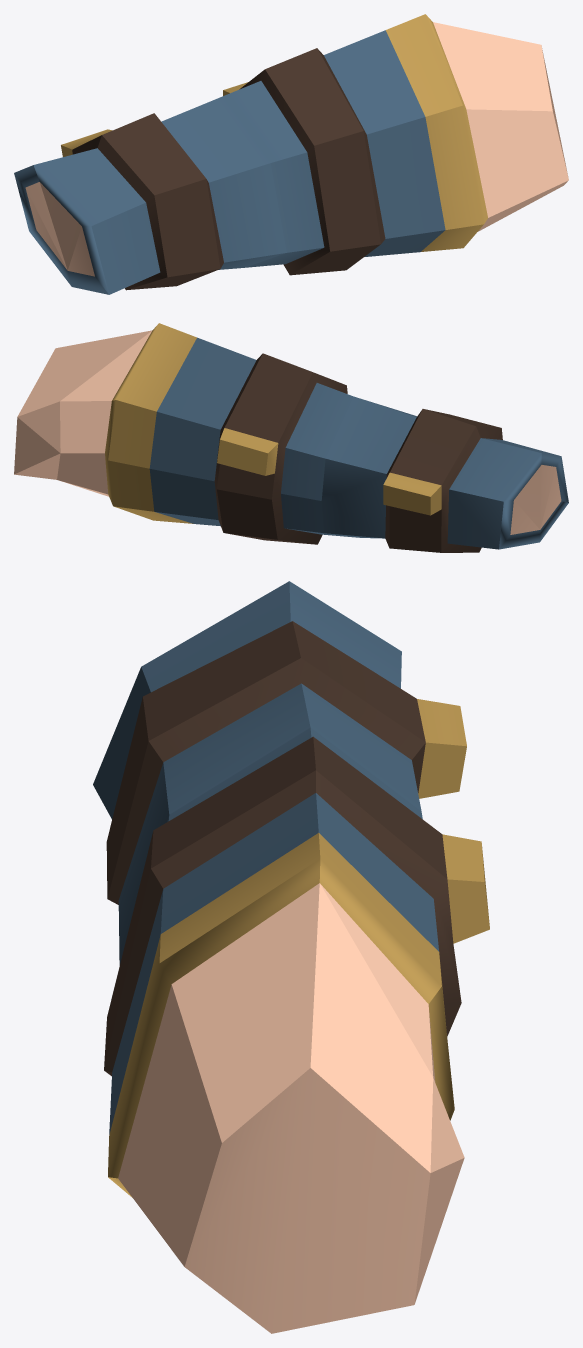
File: Chr_ArmLowerRight_Female_14_Static.fbx
3 renders of one model, top to bottom at view 1: azimuth 30°, elevation 25°; view 2: azimuth 150°, elevation 25°; view 3: azimuth 270°, elevation 25°, orthographic. The views are drawn at different scales.
Parts seen in each view (by area): view 1: Chr_ArmLowerRight_Female_14_Static; view 2: Chr_ArmLowerRight_Female_14_Static; view 3: Chr_ArmLowerRight_Female_14_Static.
Boxes of the visible parts, <box> form: Chr_ArmLowerRight_Female_14_Static: <box>14,14,568,294</box>; Chr_ArmLowerRight_Female_14_Static: <box>14,323,568,552</box>; Chr_ArmLowerRight_Female_14_Static: <box>93,581,489,1333</box>.
Bounding box in the file's own units: 0.292 × 0.12 × 0.1012.
